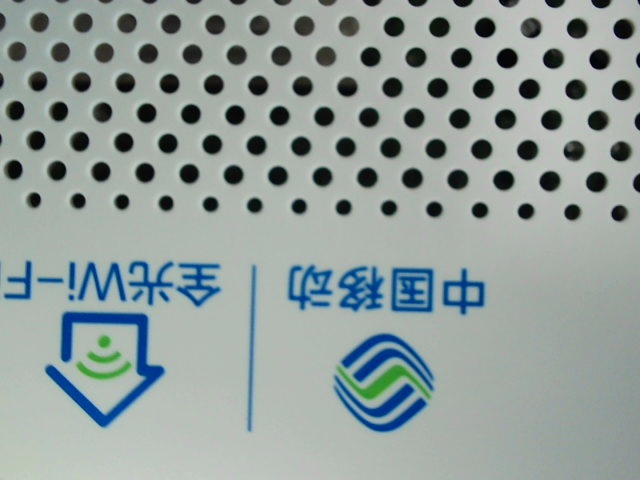BJ_QuanGuangMobile: (0, 245, 485, 432)
